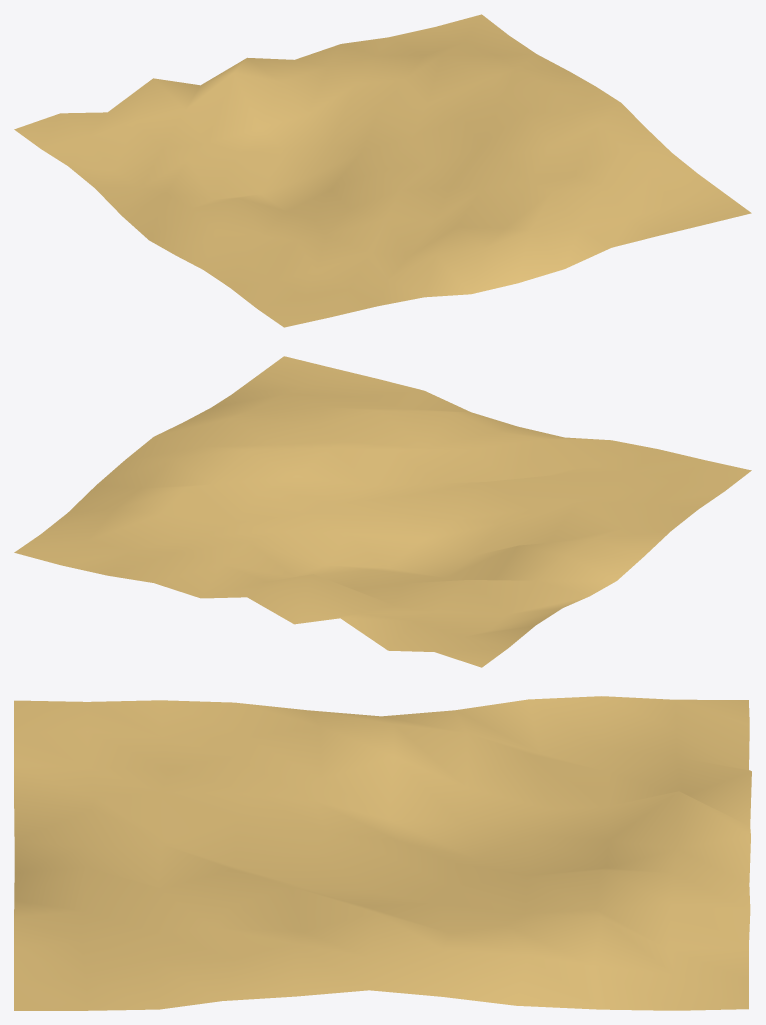
The model's file is ground.fbx.
3 renders of one model, top to bottom at view 1: azimuth 30°, elevation 25°; view 2: azimuth 150°, elevation 25°; view 3: azimuth 270°, elevation 25°, orthographic. The views are drawn at different scales.
Visible parts, largest first — view 1: pPlane1; view 2: pPlane1; view 3: pPlane1.
Part boxes in pixels (box(x1,y1,x2,y2)): pPlane1: box(14, 14, 751, 327); pPlane1: box(14, 356, 751, 667); pPlane1: box(14, 696, 751, 1010).
Bounding box in the file's own units: 410 × 41.13 × 409.
